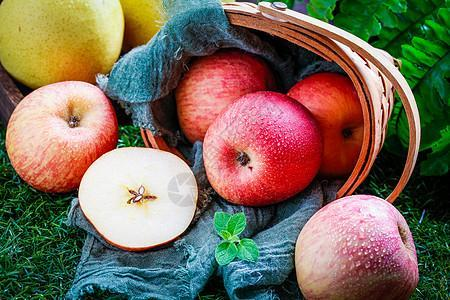apple: (204, 91, 324, 205), (2, 79, 118, 195), (294, 195, 419, 297), (79, 145, 198, 252), (173, 49, 273, 146), (283, 71, 369, 181)
